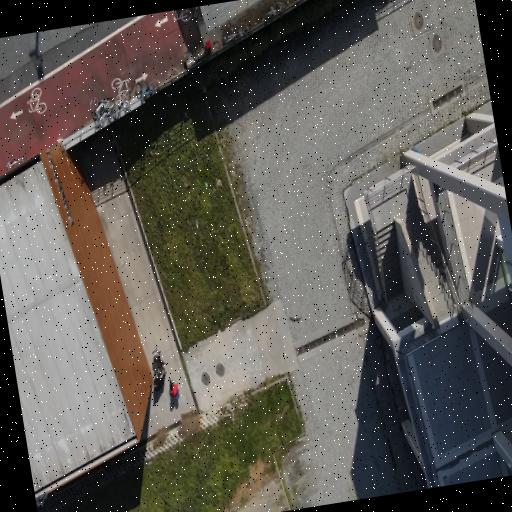person: (152, 369, 165, 390), (168, 377, 178, 399)
